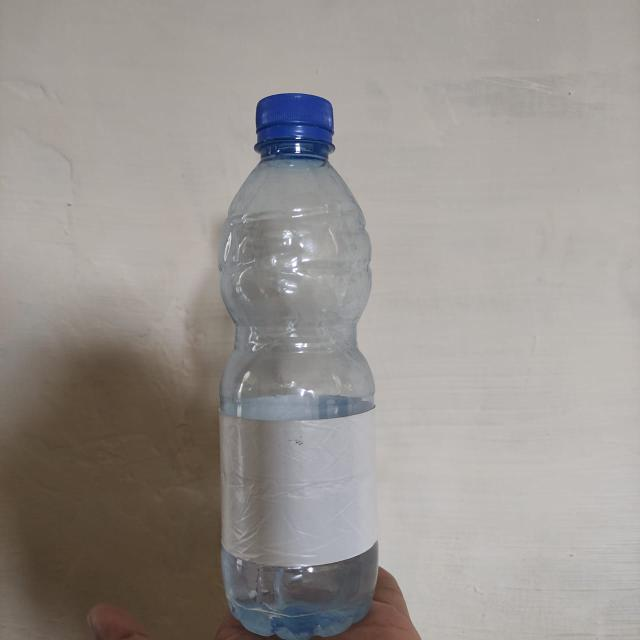bottle: (220, 90, 377, 638)
cap: (250, 93, 340, 155)
label: (225, 416, 378, 562)
